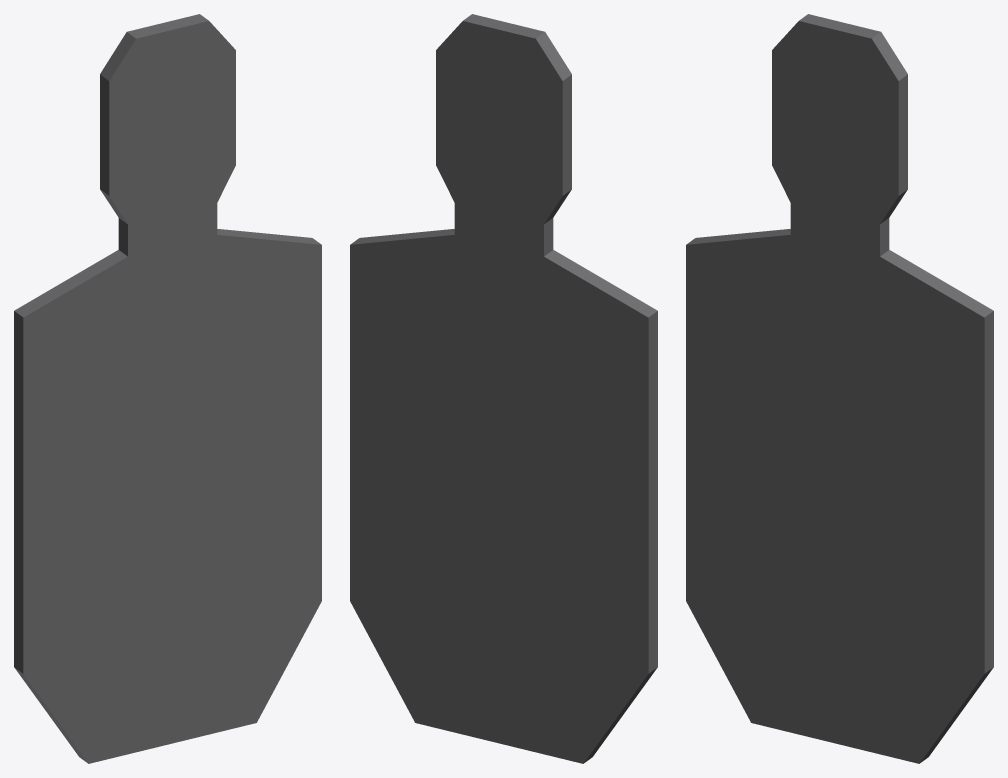
File: enemy-target.glb
The picture shows the model from 3 angles, left to right: view 1: azimuth 30°, elevation 25°; view 2: azimuth 150°, elevation 25°; view 3: azimuth 330°, elevation 25°; orthographic projection.
Parts seen in each view (by area): view 1: silhouette-target-body, silhouette-target-head; view 2: silhouette-target-body, silhouette-target-head; view 3: silhouette-target-body, silhouette-target-head.
Boxes of the visible parts, bbox=[...] form: silhouette-target-body: bbox=[14, 229, 321, 763]; silhouette-target-head: bbox=[100, 14, 235, 256]; silhouette-target-body: bbox=[350, 229, 657, 763]; silhouette-target-head: bbox=[436, 14, 571, 256]; silhouette-target-body: bbox=[686, 229, 993, 763]; silhouette-target-head: bbox=[772, 14, 907, 256].
Size of the model in its own units: 0.4327 by 0.9886 by 0.0237.
Materials: 1 (1 with a texture image).
